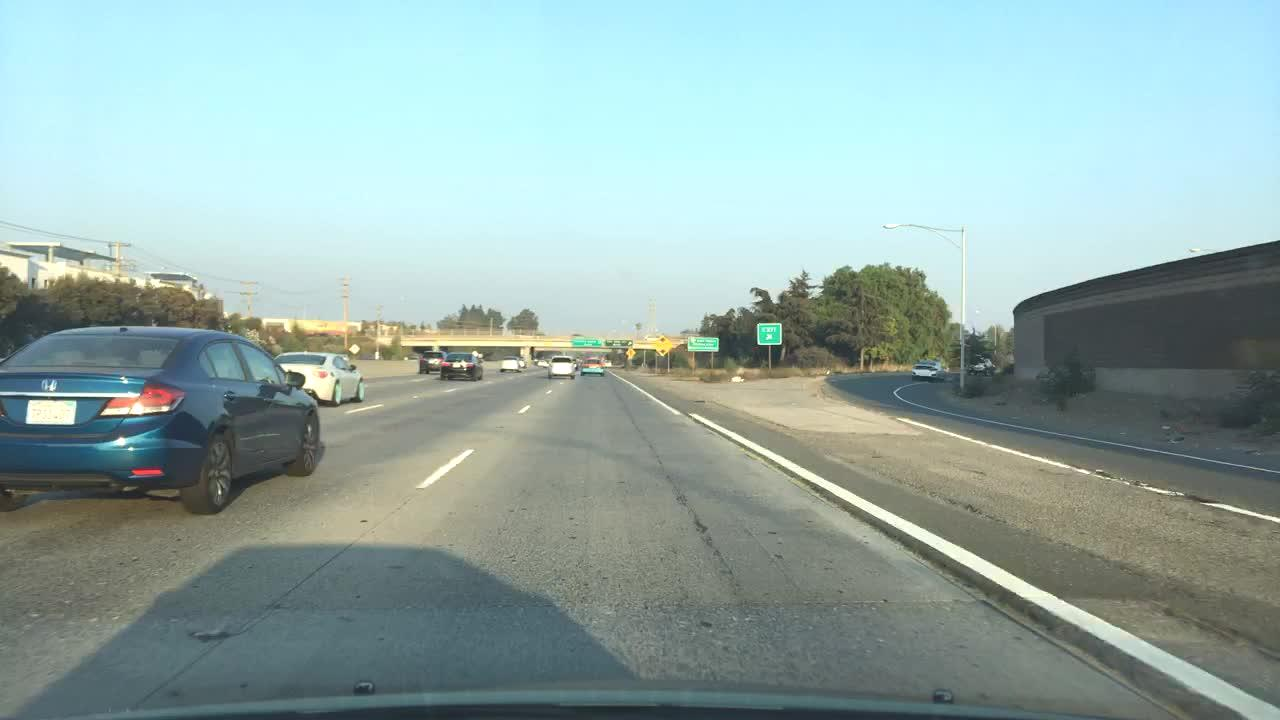Honda: (34, 371, 68, 398)
